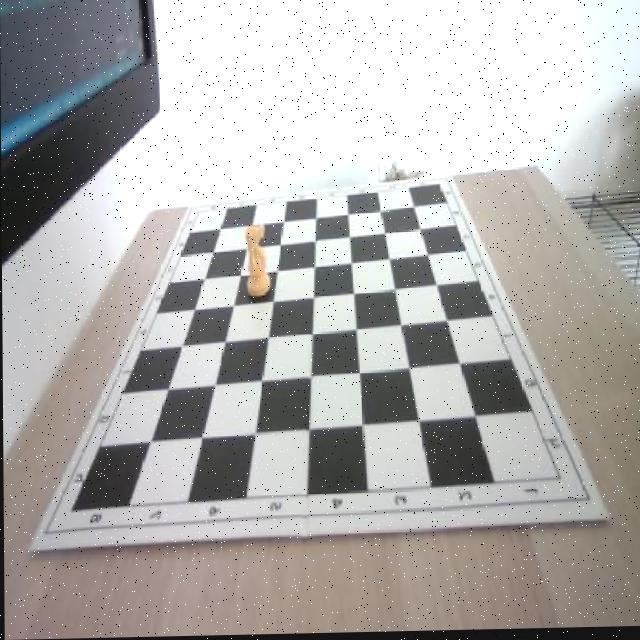white-king: (245, 222, 271, 300)
